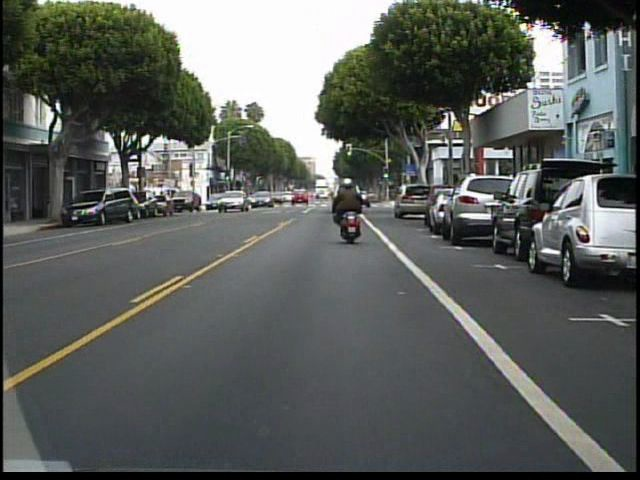person: (330, 172, 369, 241)
